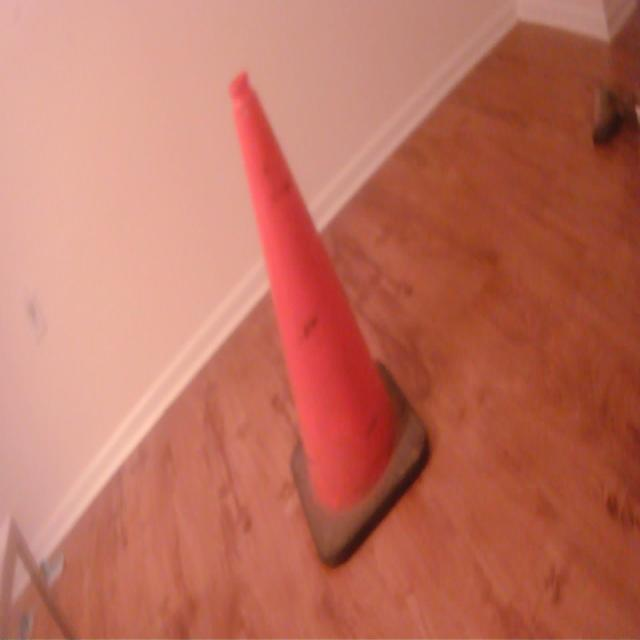traffic cone: (225, 63, 436, 582)
